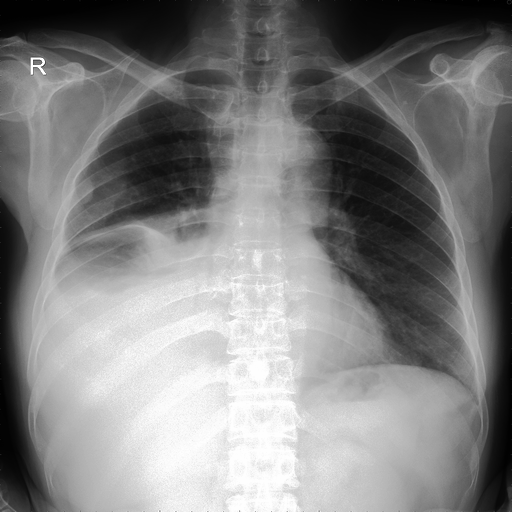Consolidation: (264, 120, 336, 210)
Pleural effusion: (45, 221, 200, 381), (71, 217, 166, 246)
Pleural thickening: (53, 181, 215, 287), (54, 247, 186, 295)
Pneumothorax: (72, 217, 169, 245)
